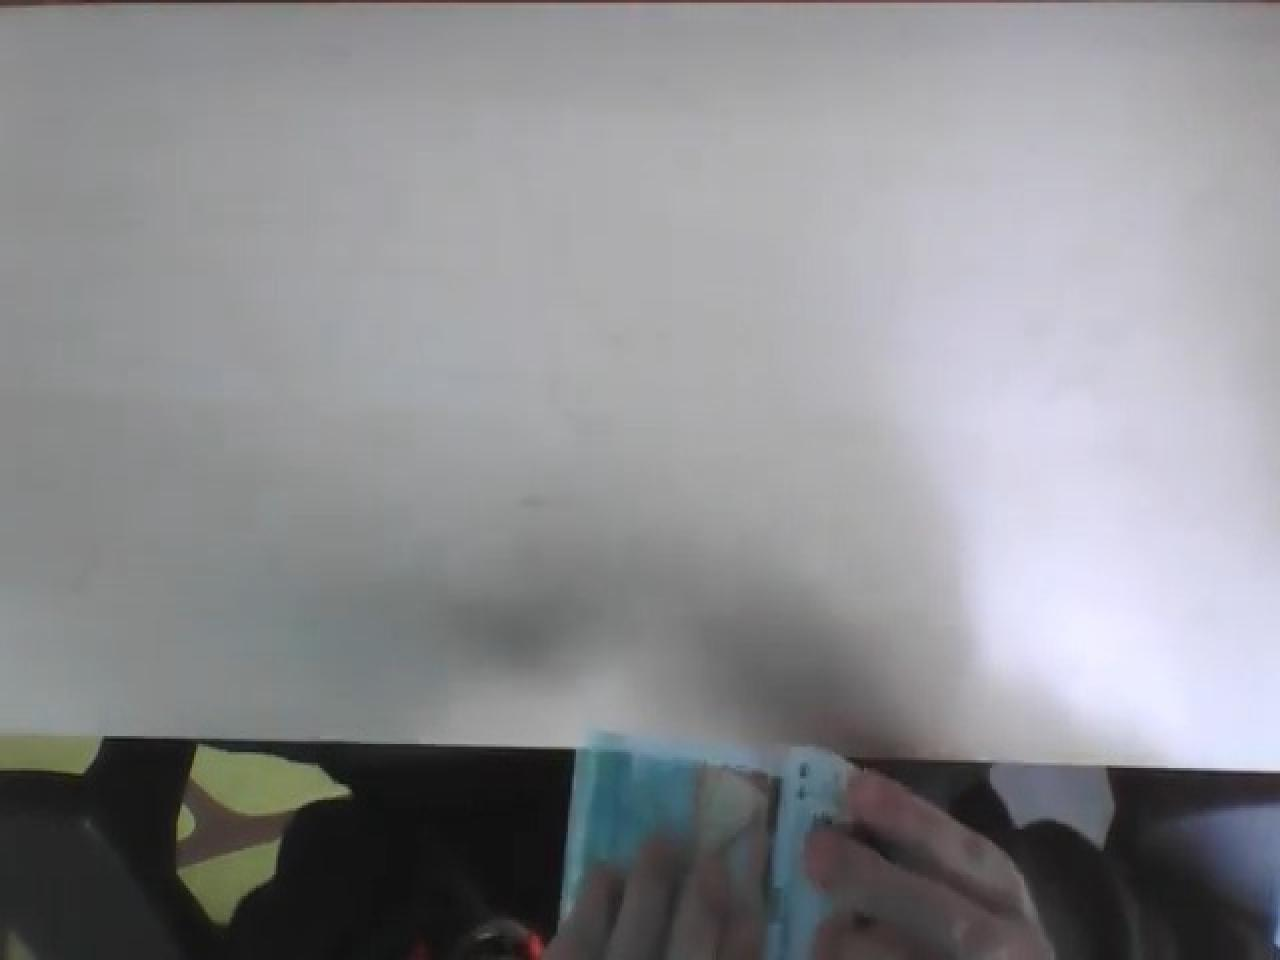100leva: (760, 744, 864, 960)
